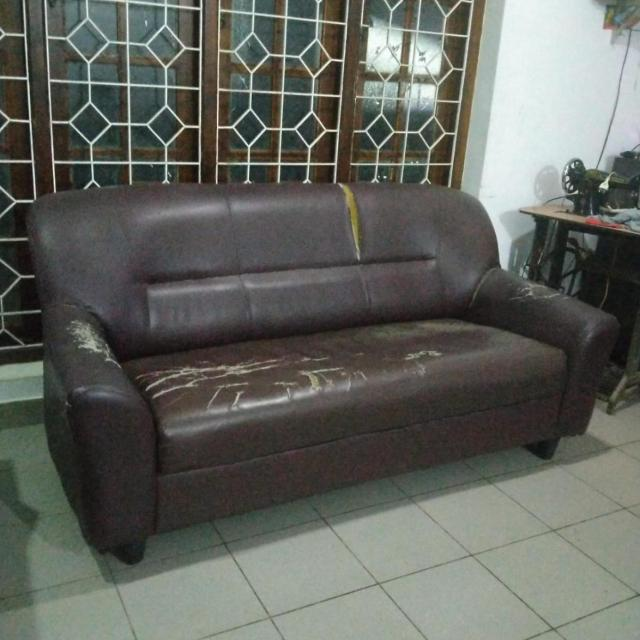Sofa: (35, 182, 620, 564)
